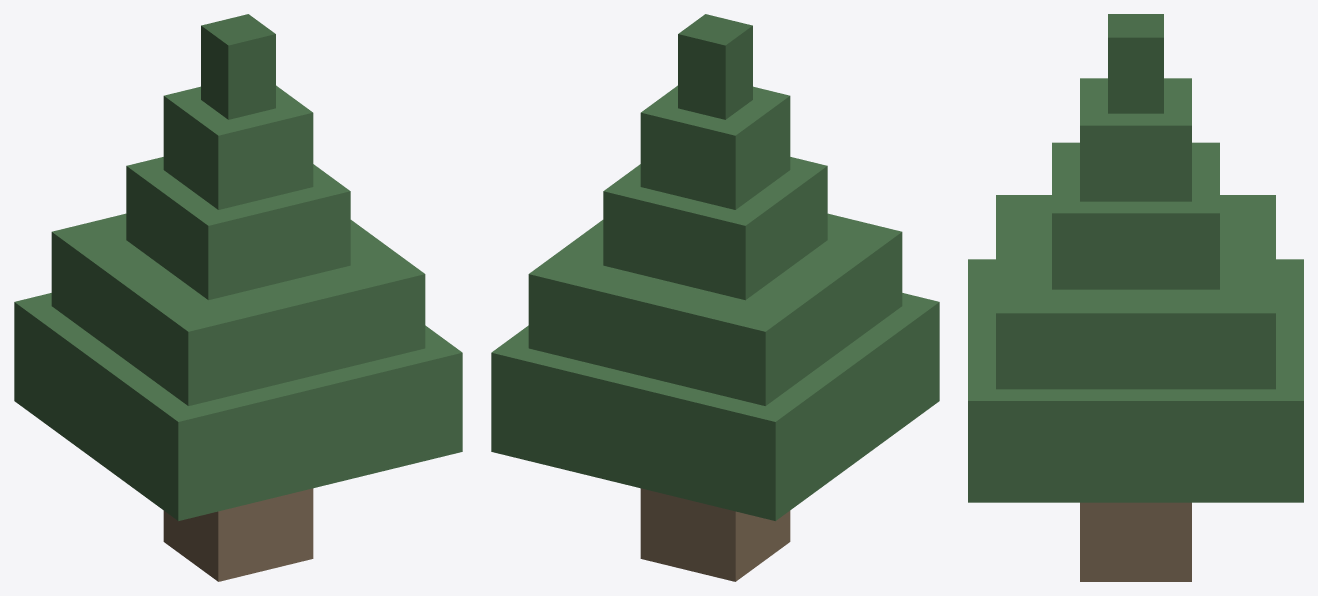
File: pino_09.glb
3 renders of one model, left to right at view 1: azimuth 30°, elevation 25°; view 2: azimuth 150°, elevation 25°; view 3: azimuth 270°, elevation 25°, orthographic. The views are drawn at different scales.
Parts seen in each view (by area): view 1: pino_09; view 2: pino_09; view 3: pino_09.
Part boxes in pixels (x1,y1,x2,y2): pino_09: (14, 14, 462, 581); pino_09: (491, 14, 939, 581); pino_09: (968, 14, 1303, 581).
Bounding box in the file's own units: 1.2 × 2.1 × 1.2.
